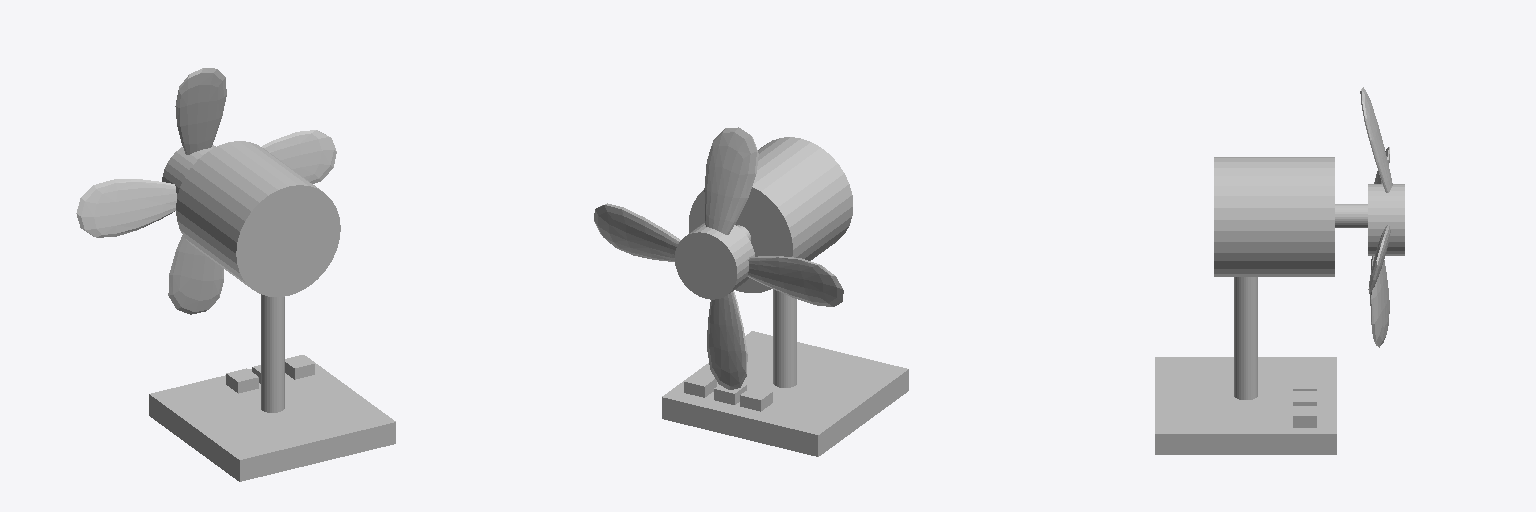
The model's file is ventilador.obj.
3 views of the same model, side by side, from view 1: azimuth 30°, elevation 25°; view 2: azimuth 150°, elevation 25°; view 3: azimuth 270°, elevation 25° (orthographic).
Parts seen in each view (by area): view 1: Cilindro.001, Cube.001, Plano.003, Plano.004, Plano.001, Cilindro, Plano.002, Cilindro.003, Cubo.002_Cubo.003, Cubo_Cubo.001; view 2: Cube.001, Cilindro.001, Cilindro.003, Plano.004, Plano.003, Plano.001, Plano.002, Cilindro, Cubo.002_Cubo.003, Cubo_Cubo.001; view 3: Cube.001, Cilindro.001, Cilindro, Cilindro.003, Plano.001, Plano.004, Cilindro.002, Plano.002, Cubo_Cubo.001.
Part boxes in pixels (x1,y1,x2,y2): Cilindro.001: (176, 141, 340, 296); Cube.001: (149, 356, 395, 481); Plano.003: (76, 179, 176, 237); Plano.004: (175, 68, 226, 154); Plano.001: (168, 235, 223, 314); Cilindro: (261, 294, 284, 412); Plano.002: (262, 130, 336, 183); Cilindro.003: (162, 145, 215, 196); Cubo.002_Cubo.003: (226, 368, 258, 393); Cubo_Cubo.001: (285, 355, 314, 379); Cube.001: (662, 331, 908, 456); Cilindro.001: (689, 137, 852, 292); Cilindro.003: (675, 223, 754, 299); Plano.004: (704, 127, 758, 234); Plano.003: (748, 256, 843, 306); Plano.001: (707, 291, 747, 389); Plano.002: (594, 203, 680, 261); Cilindro: (773, 289, 796, 387); Cubo.002_Cubo.003: (740, 386, 772, 411); Cubo_Cubo.001: (684, 373, 716, 397); Cube.001: (1155, 357, 1336, 454); Cilindro.001: (1214, 157, 1334, 276); Cilindro: (1234, 277, 1257, 399); Cilindro.003: (1368, 184, 1404, 255); Plano.001: (1370, 256, 1389, 347); Plano.004: (1360, 87, 1392, 192); Cilindro.002: (1335, 204, 1367, 227); Plano.002: (1368, 225, 1390, 293); Cubo_Cubo.001: (1293, 406, 1316, 427).
Size of the model in its own units: 0.2441 by 0.2949 by 0.2064.